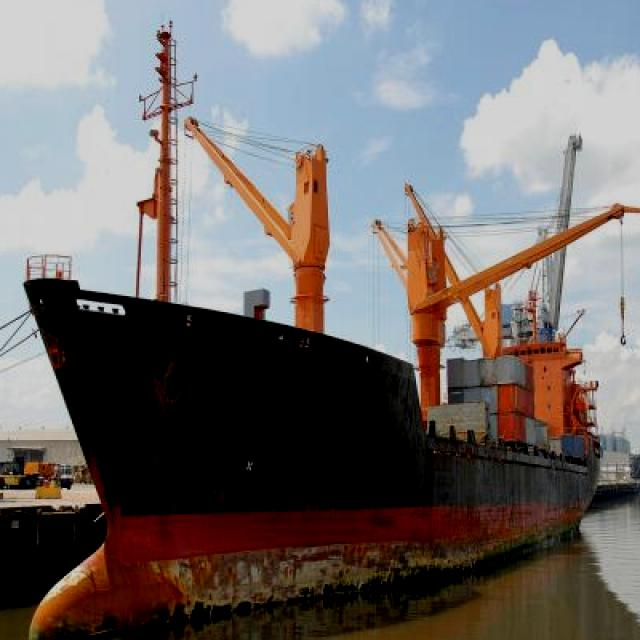ship: (21, 125, 597, 640)
